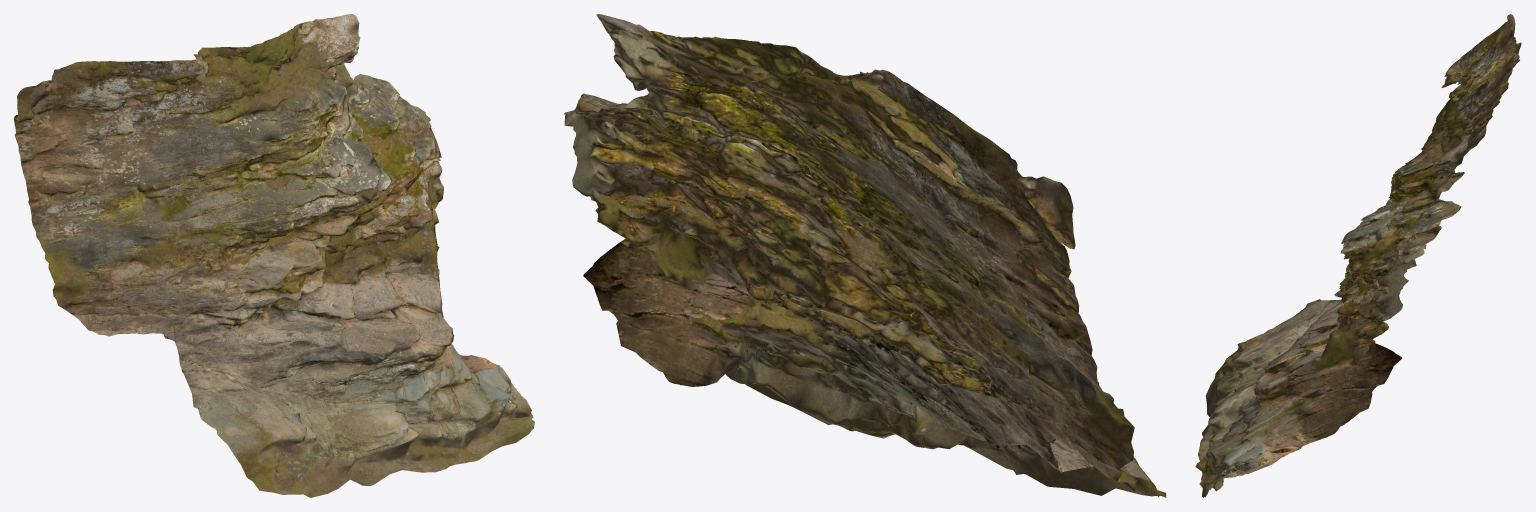
The model's file is rock_face_02.glb.
The picture shows the model from 3 angles, left to right: view 1: azimuth 30°, elevation 25°; view 2: azimuth 150°, elevation 25°; view 3: azimuth 270°, elevation 25°; orthographic projection. The views are drawn at different scales.
Parts seen in each view (by area): view 1: rock_face_02; view 2: rock_face_02; view 3: rock_face_02.
Boxes of the visible parts, x1=… form: rock_face_02: x1=14, y1=14, x2=534, y2=497; rock_face_02: x1=564, y1=14, x2=1166, y2=497; rock_face_02: x1=1195, y1=14, x2=1521, y2=497.
Bounding box in the file's own units: 2.71 × 2.47 × 2.13.
1 material, 1 textured.
